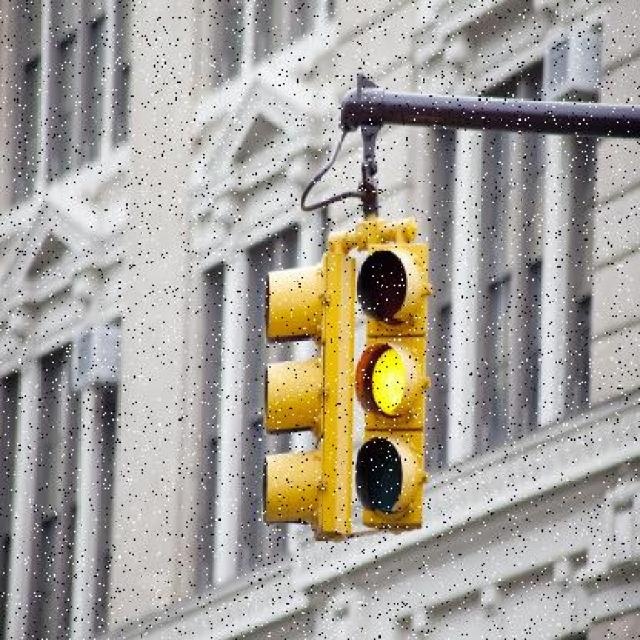yellow-light: (290, 222, 463, 552)
